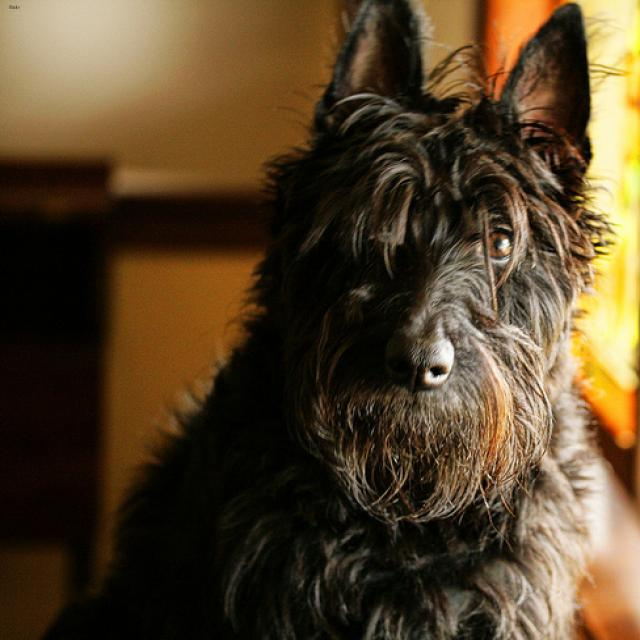dog-scottish_terrier: (79, 1, 637, 637)
